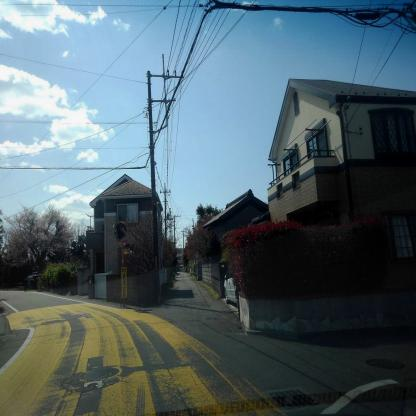Someiyoshino: (0, 196, 82, 271)
